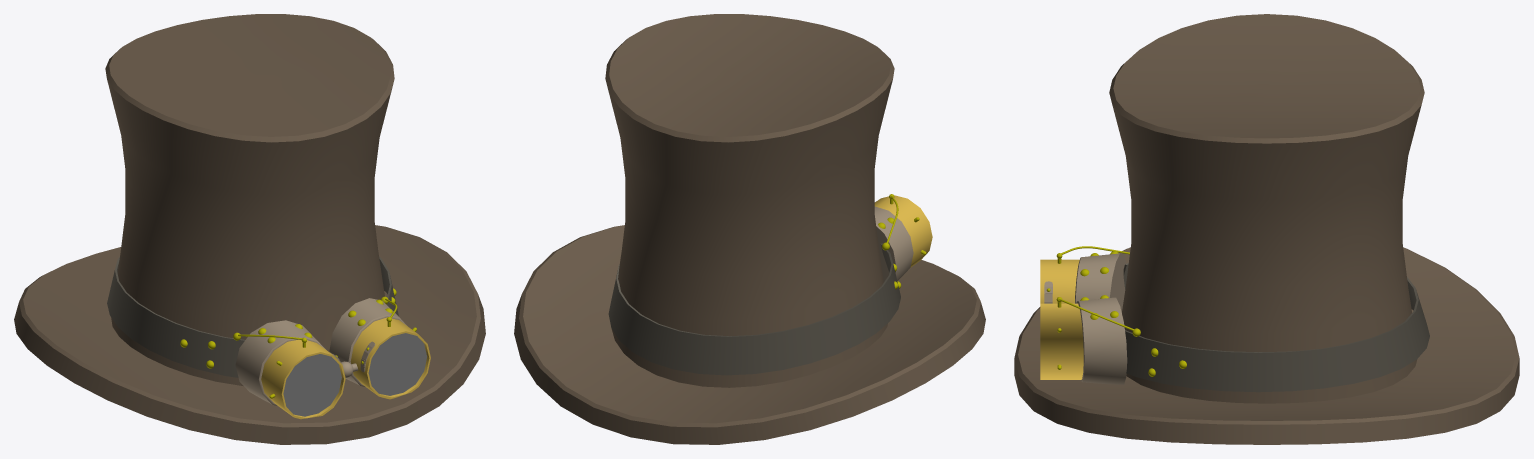
The model's file is shlapa.gltf.
3 renders of one model, left to right at view 1: azimuth 30°, elevation 25°; view 2: azimuth 150°, elevation 25°; view 3: azimuth 270°, elevation 25°, orthographic. The views are drawn at different scales.
Parts seen in each view (by area): view 1: Cylinder001, Cylinder002, Object001_13 - Default_0, Object003_03 - Default_0, Capsule002; view 2: Cylinder001, Object001_13 - Default_0, Object003_03 - Default_0, Cylinder002; view 3: Cylinder001, Object001_13 - Default_0, Object003_03 - Default_0, Cylinder002, Capsule002.
Part boxes in pixels (<box>): Cylinder001: <box>14,14,485,444</box>; Cylinder002: <box>261,317,430,419</box>; Object001_13 - Default_0: <box>107,256,398,377</box>; Object003_03 - Default_0: <box>235,298,406,405</box>; Capsule002: <box>180,288,416,398</box>; Cylinder001: <box>514,14,985,444</box>; Object001_13 - Default_0: <box>608,243,900,375</box>; Object003_03 - Default_0: <box>874,206,913,281</box>; Cylinder002: <box>874,195,932,267</box>; Cylinder001: <box>1014,14,1519,444</box>; Object001_13 - Default_0: <box>1123,263,1429,392</box>; Object003_03 - Default_0: <box>1075,253,1127,384</box>; Cylinder002: <box>1040,259,1083,379</box>; Capsule002: <box>1056,246,1186,376</box>.
Size of the model in its own units: 237 by 158 by 241.
